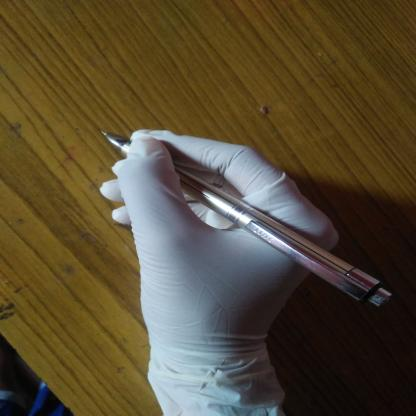gloved_hand: (94, 118, 344, 415)
